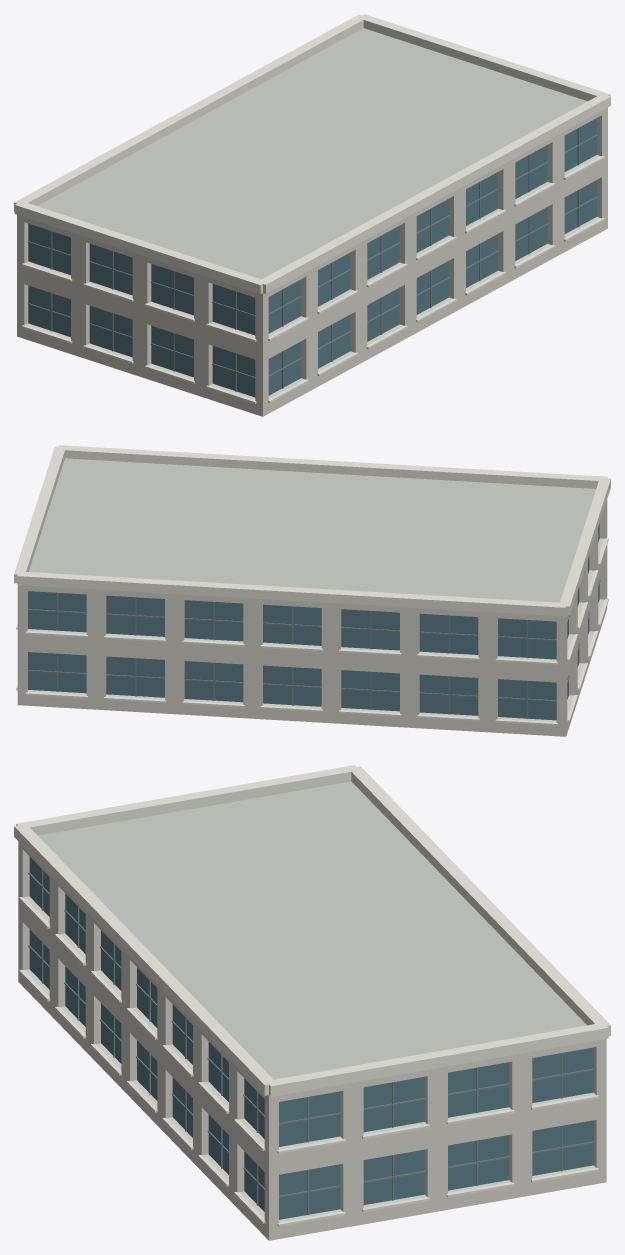
3 renders of one model, top to bottom at view 1: azimuth 30°, elevation 25°; view 2: azimuth 150°, elevation 25°; view 3: azimuth 270°, elevation 25°, orthographic. The views are drawn at different scales.
Parts seen in each view (by area): view 1: roof, wall, glass, trim, metal; view 2: roof, wall, glass, trim, metal; view 3: roof, wall, glass, trim, metal.
Part boxes in pixels (<box>): roof: <box>37,28,587,279</box>; wall: <box>17,107,607,416</box>; glass: <box>28,118,596,397</box>; trim: <box>14,14,610,403</box>; metal: <box>27,128,597,391</box>; roof: <box>28,458,596,602</box>; wall: <box>17,499,607,736</box>; glass: <box>28,523,599,720</box>; trim: <box>14,445,610,725</box>; metal: <box>28,579,600,718</box>; roof: <box>38,781,586,1079</box>; wall: <box>18,841,606,1240</box>; glass: <box>29,857,593,1219</box>; trim: <box>14,765,610,1226</box>; metal: <box>28,869,594,1215</box>.
Bounding box in the file's own units: 28.37 × 6.44 × 22.28.
